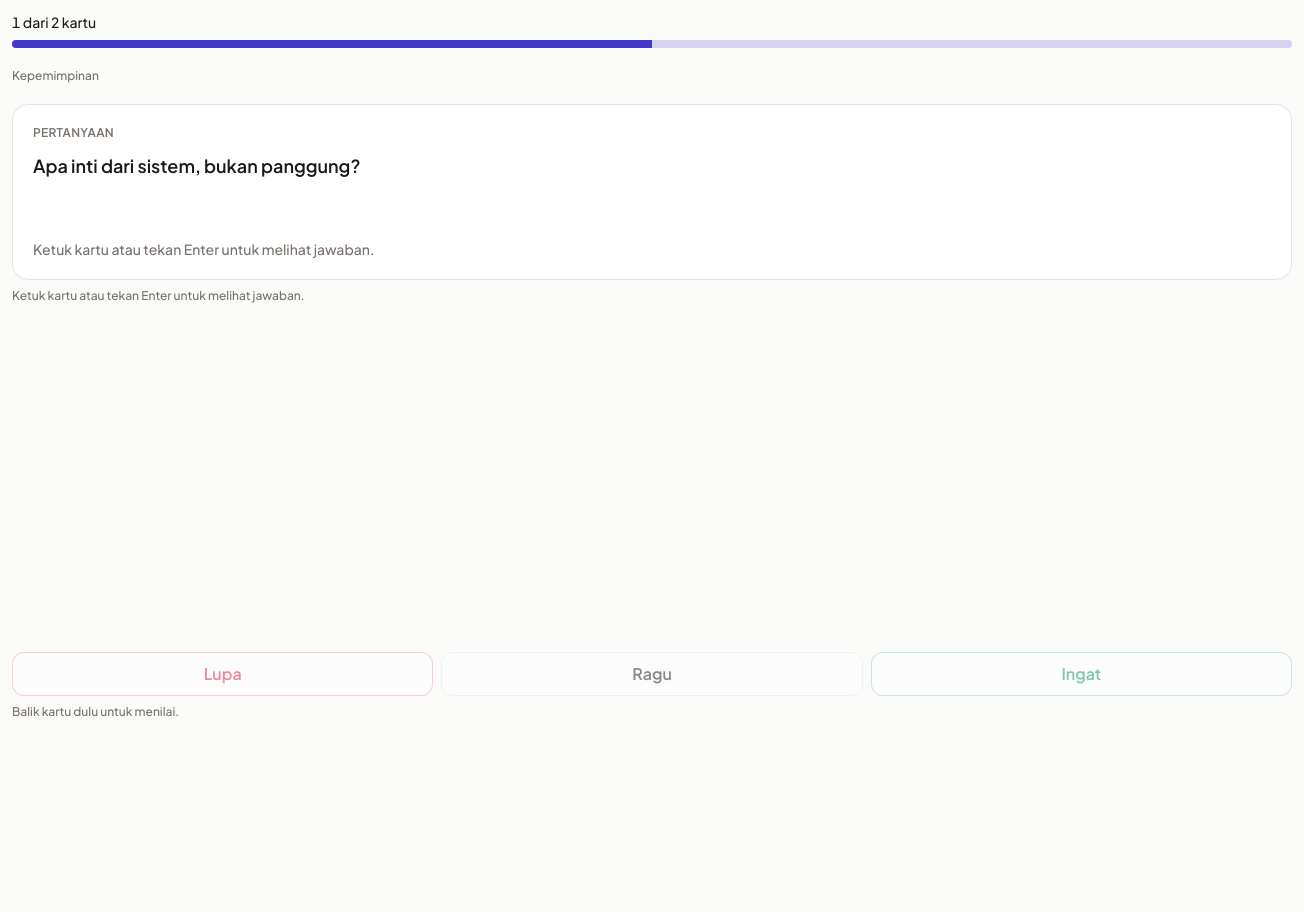
Test: ReviewSession › rates the flipped card and advances optimistically to the next card
The width and height of the screenshot is (1304, 912).
Click the button "Apa inti dari sistem".
click(652, 192)  # box 12,104 -> 1292,280
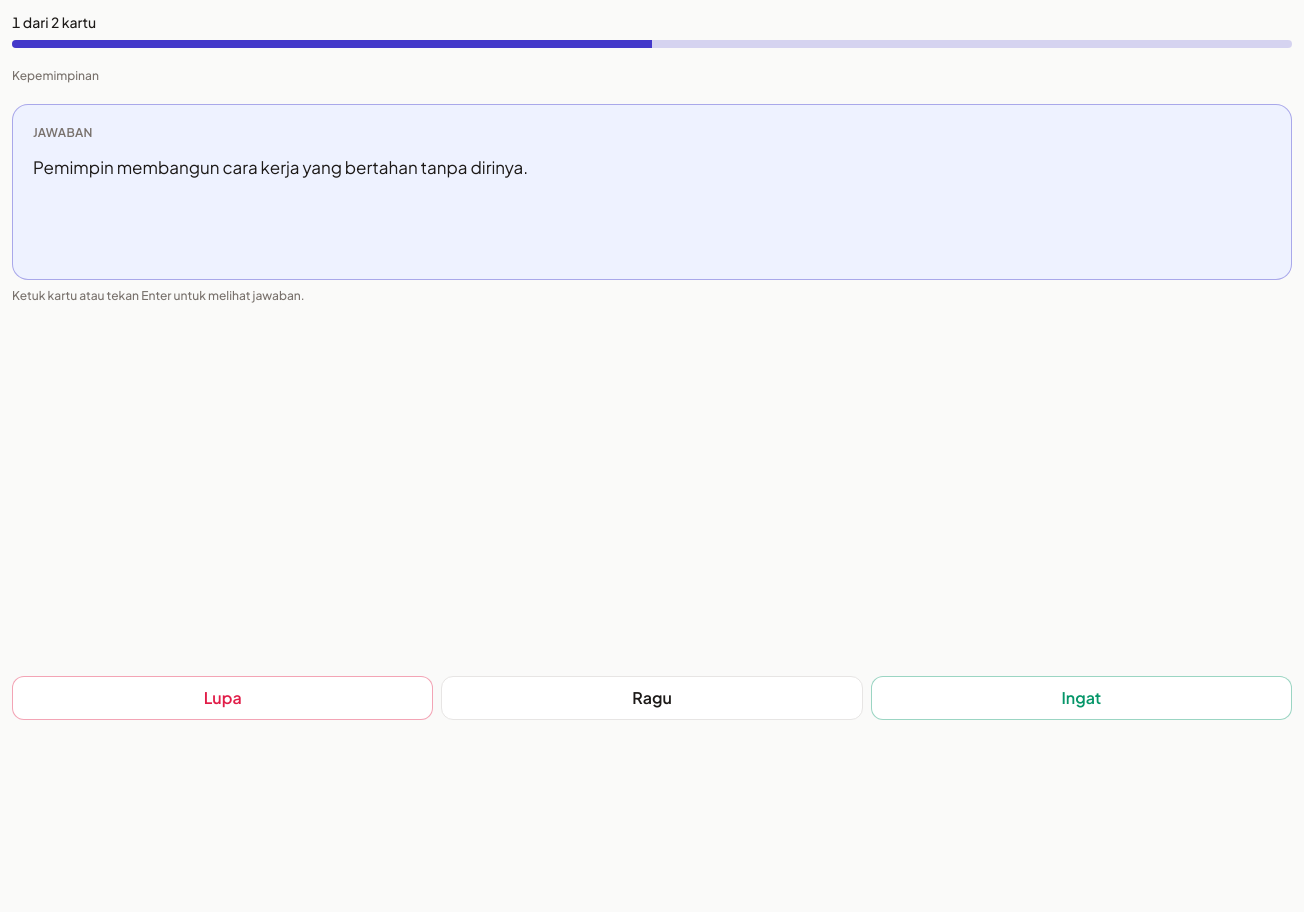
Click the button "Ingat".
click(1081, 698)  # box 871,676 -> 1292,720
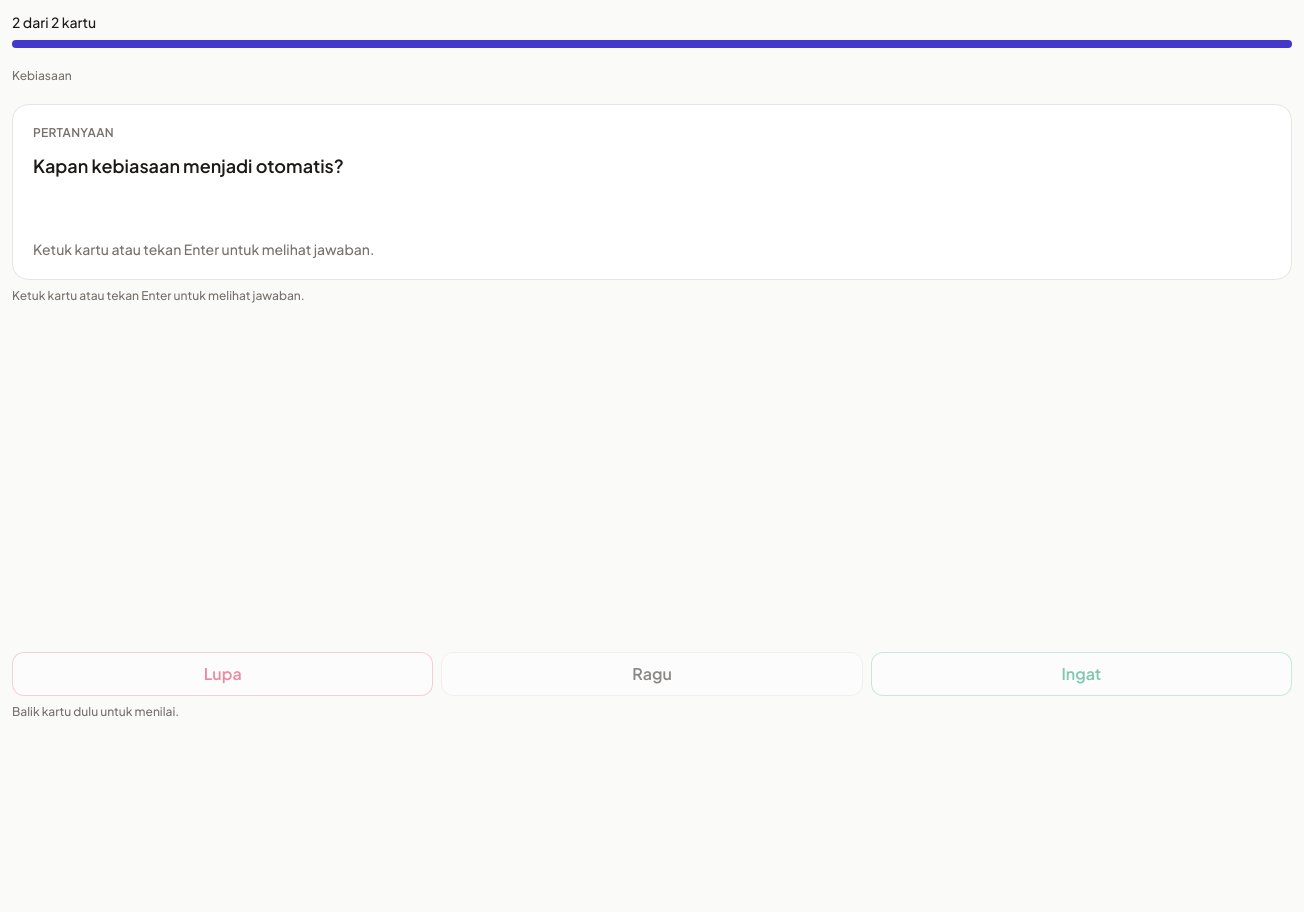
Result: the text "Kapan kebiasaan menjadi otomatis?" is shown at 33,154 -> 344,177
Result: the button "Ingat" is disabled at 871,652 -> 1292,696
